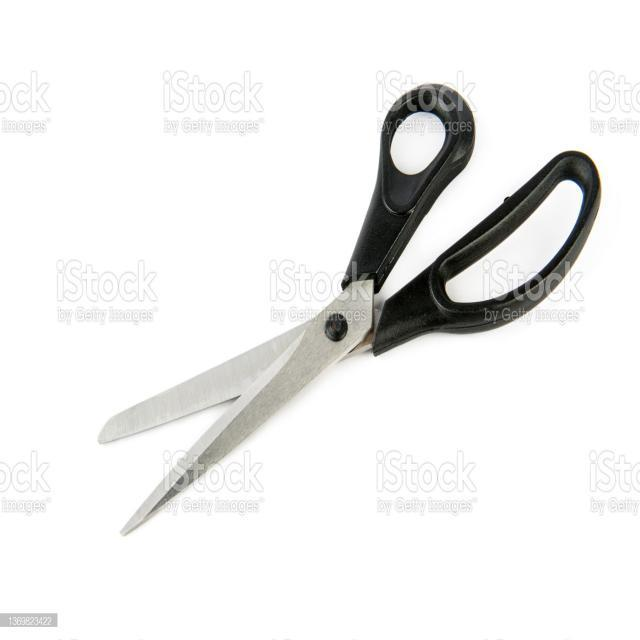scissor: (100, 86, 602, 536)
